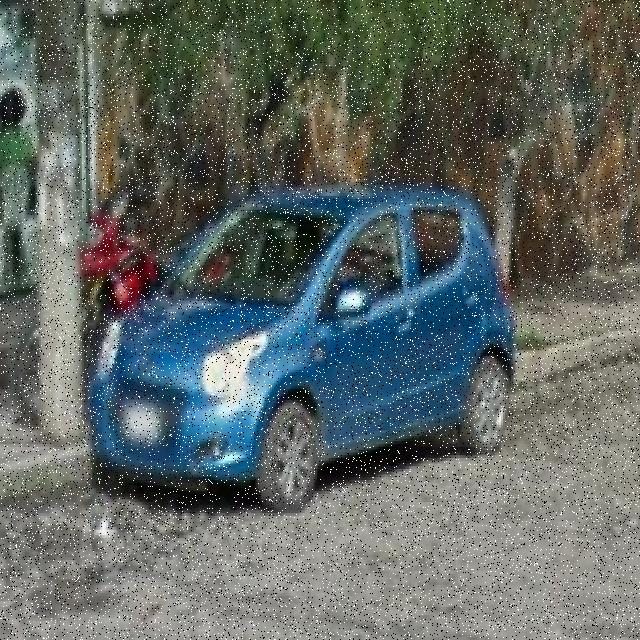cars: (85, 193, 523, 511)
